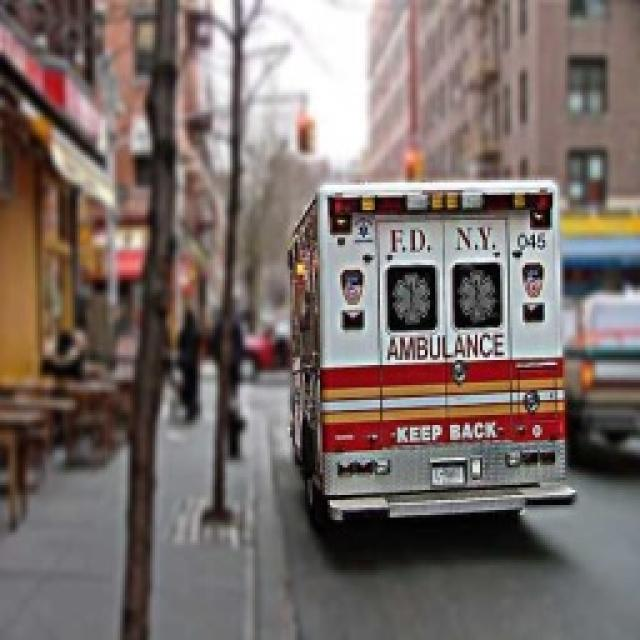ambulance: (292, 180, 570, 545), (560, 292, 638, 458)
